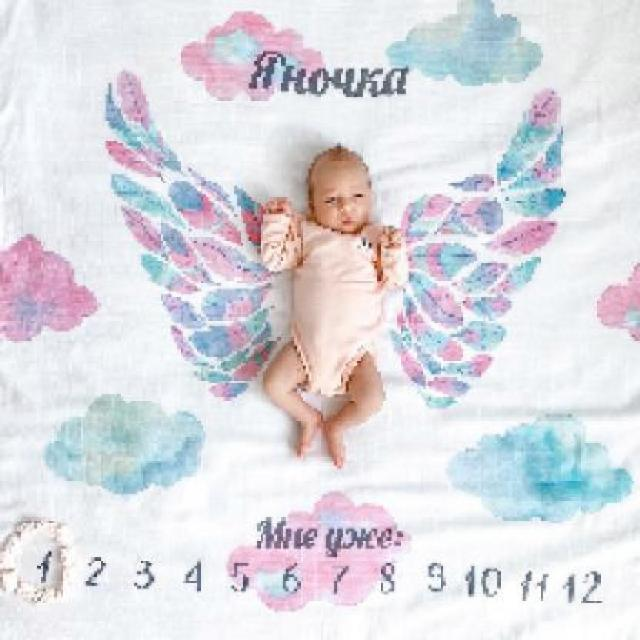child: (259, 142, 410, 464)
